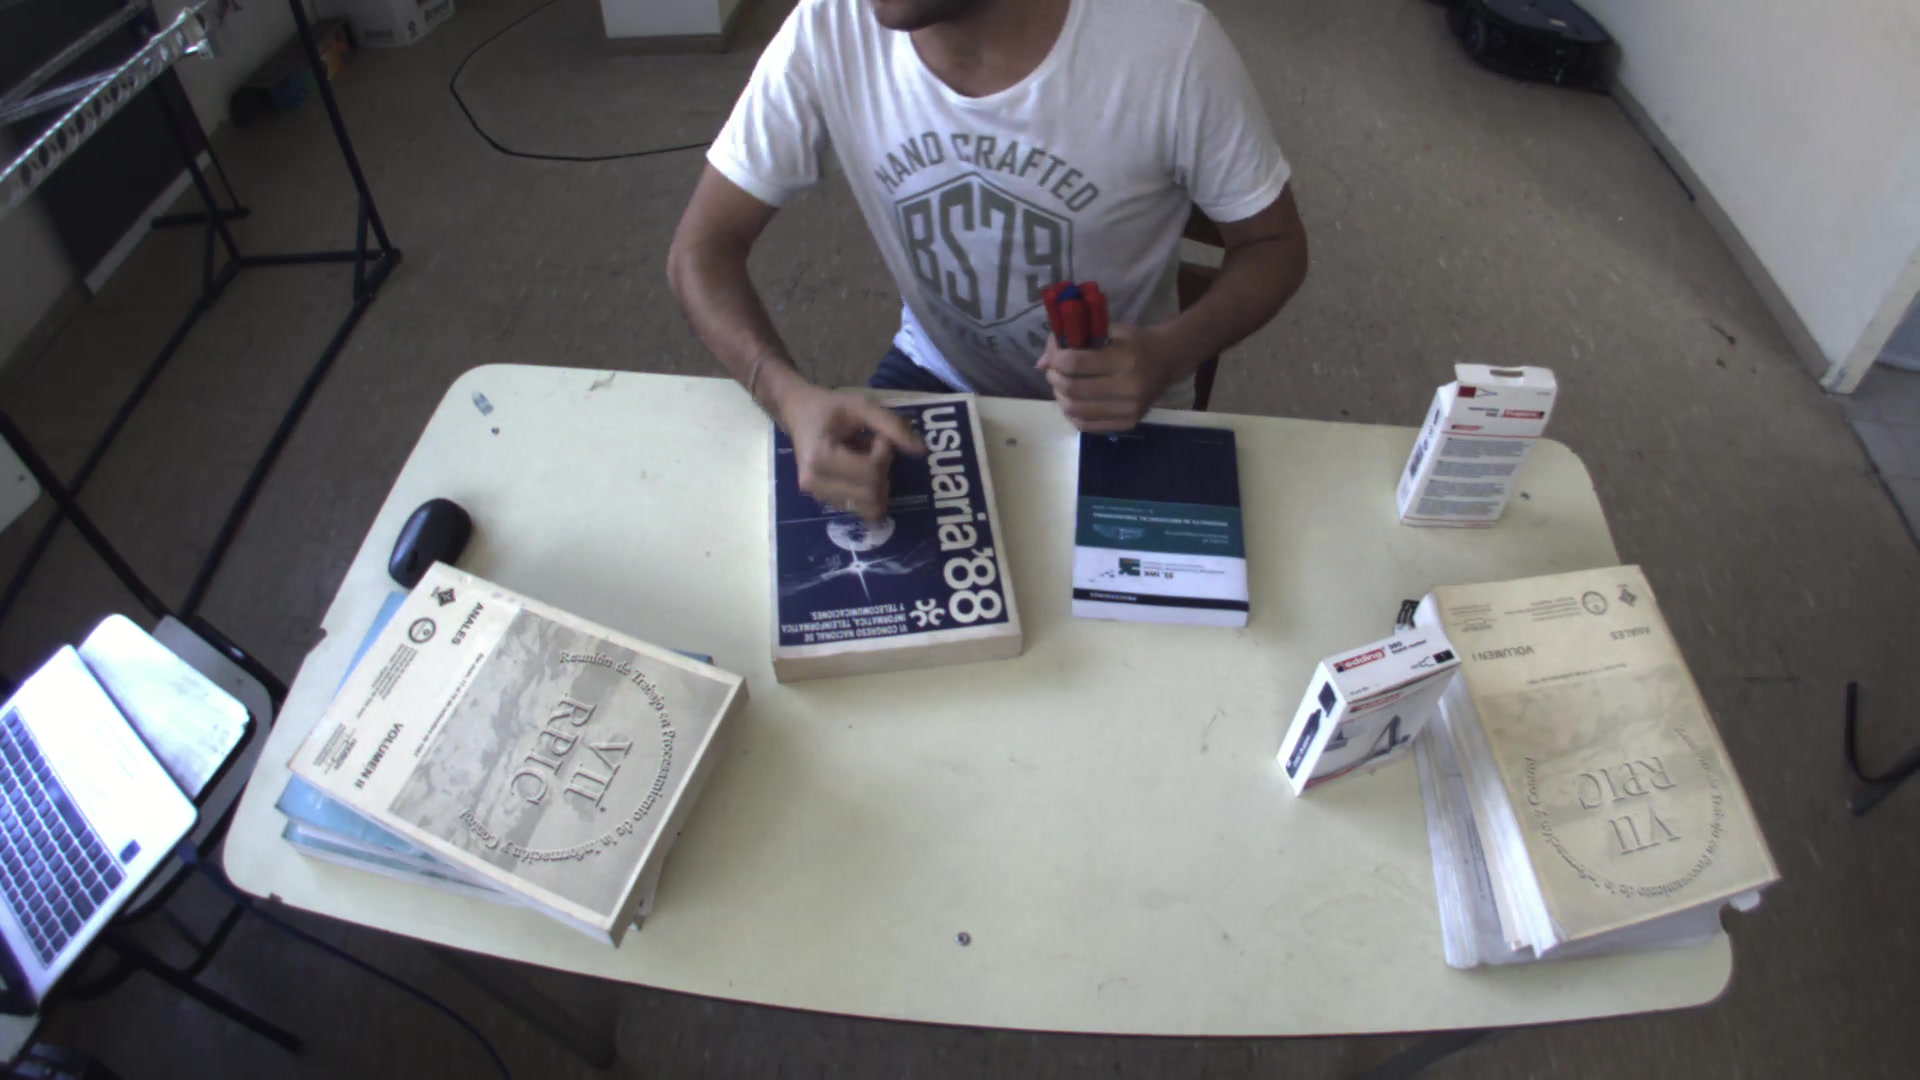hand: (1025, 280, 1185, 444), (783, 368, 928, 520)
